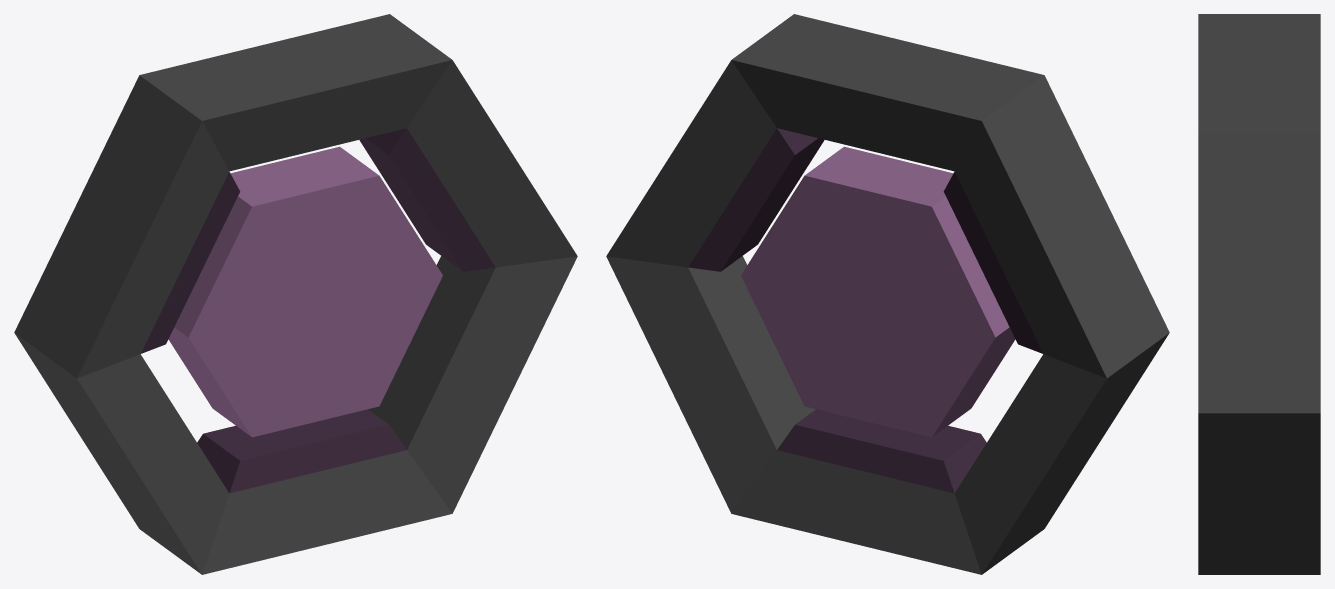
File: reflect_Raw.fbx
The picture shows the model from 3 angles, left to right: view 1: azimuth 30°, elevation 25°; view 2: azimuth 150°, elevation 25°; view 3: azimuth 270°, elevation 25°; orthographic projection. The views are drawn at different scales.
Parts seen in each view (by area): view 1: pCylinder1, pCylinder2; view 2: pCylinder1, pCylinder2; view 3: pCylinder1.
Boxes of the visible parts, bbox=[...] form: pCylinder1: bbox=[14, 14, 577, 574]; pCylinder2: bbox=[168, 146, 442, 437]; pCylinder1: bbox=[606, 14, 1169, 574]; pCylinder2: bbox=[741, 146, 1015, 437]; pCylinder1: bbox=[1198, 14, 1320, 574].
Size of the model in its own units: 7.9 by 6.85 by 1.72.
